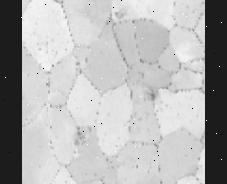good_void: (142, 84, 158, 101)
